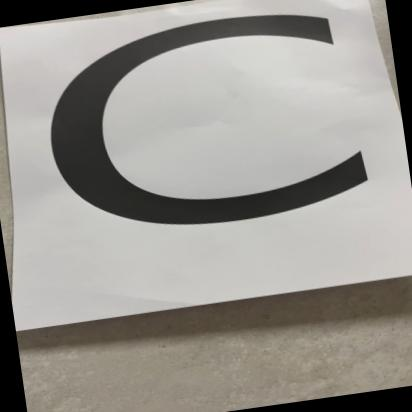seat: (4, 0, 412, 326)
